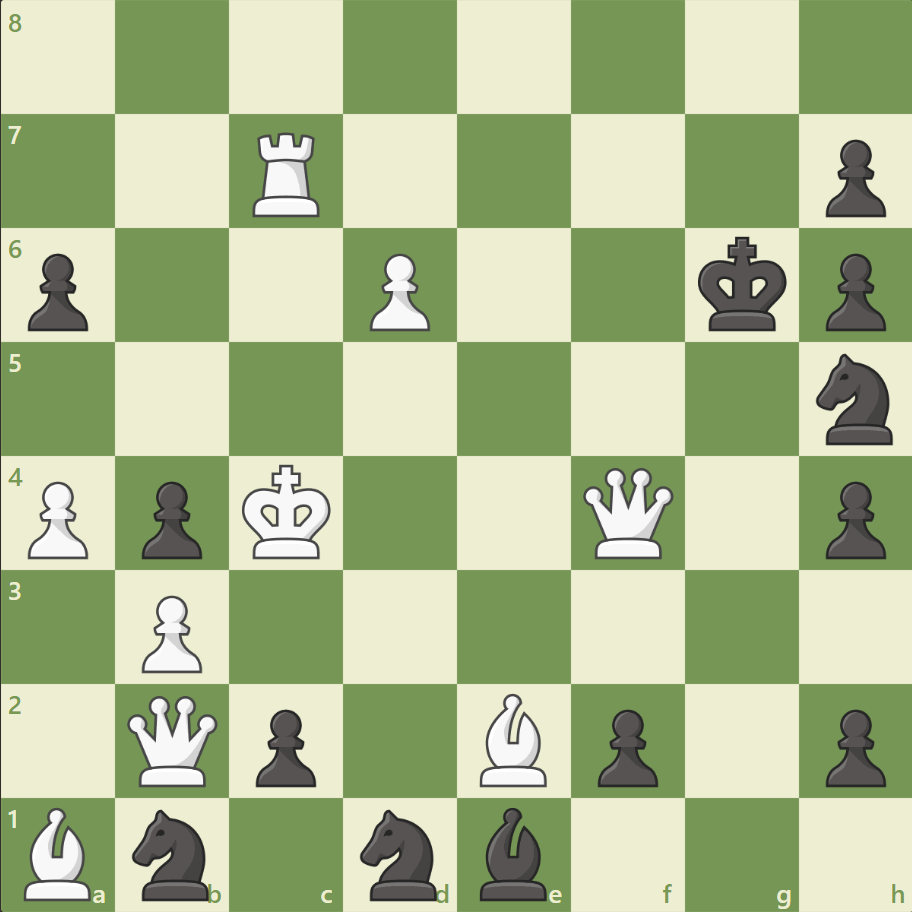B: (471, 687, 555, 790), (17, 801, 101, 904)
K: (238, 458, 338, 566)
P: (20, 473, 95, 564), (133, 586, 208, 677), (361, 246, 435, 337)
Q: (578, 463, 677, 562), (124, 690, 223, 789)
R: (246, 125, 329, 222)
b: (471, 801, 555, 904)
k: (692, 231, 792, 339)
n: (124, 802, 222, 904), (351, 802, 449, 904), (806, 348, 903, 450)
p: (20, 246, 95, 337), (133, 473, 208, 564), (247, 700, 322, 791), (815, 132, 889, 223), (815, 246, 889, 337), (815, 473, 889, 564), (588, 700, 662, 791), (815, 700, 889, 791)
